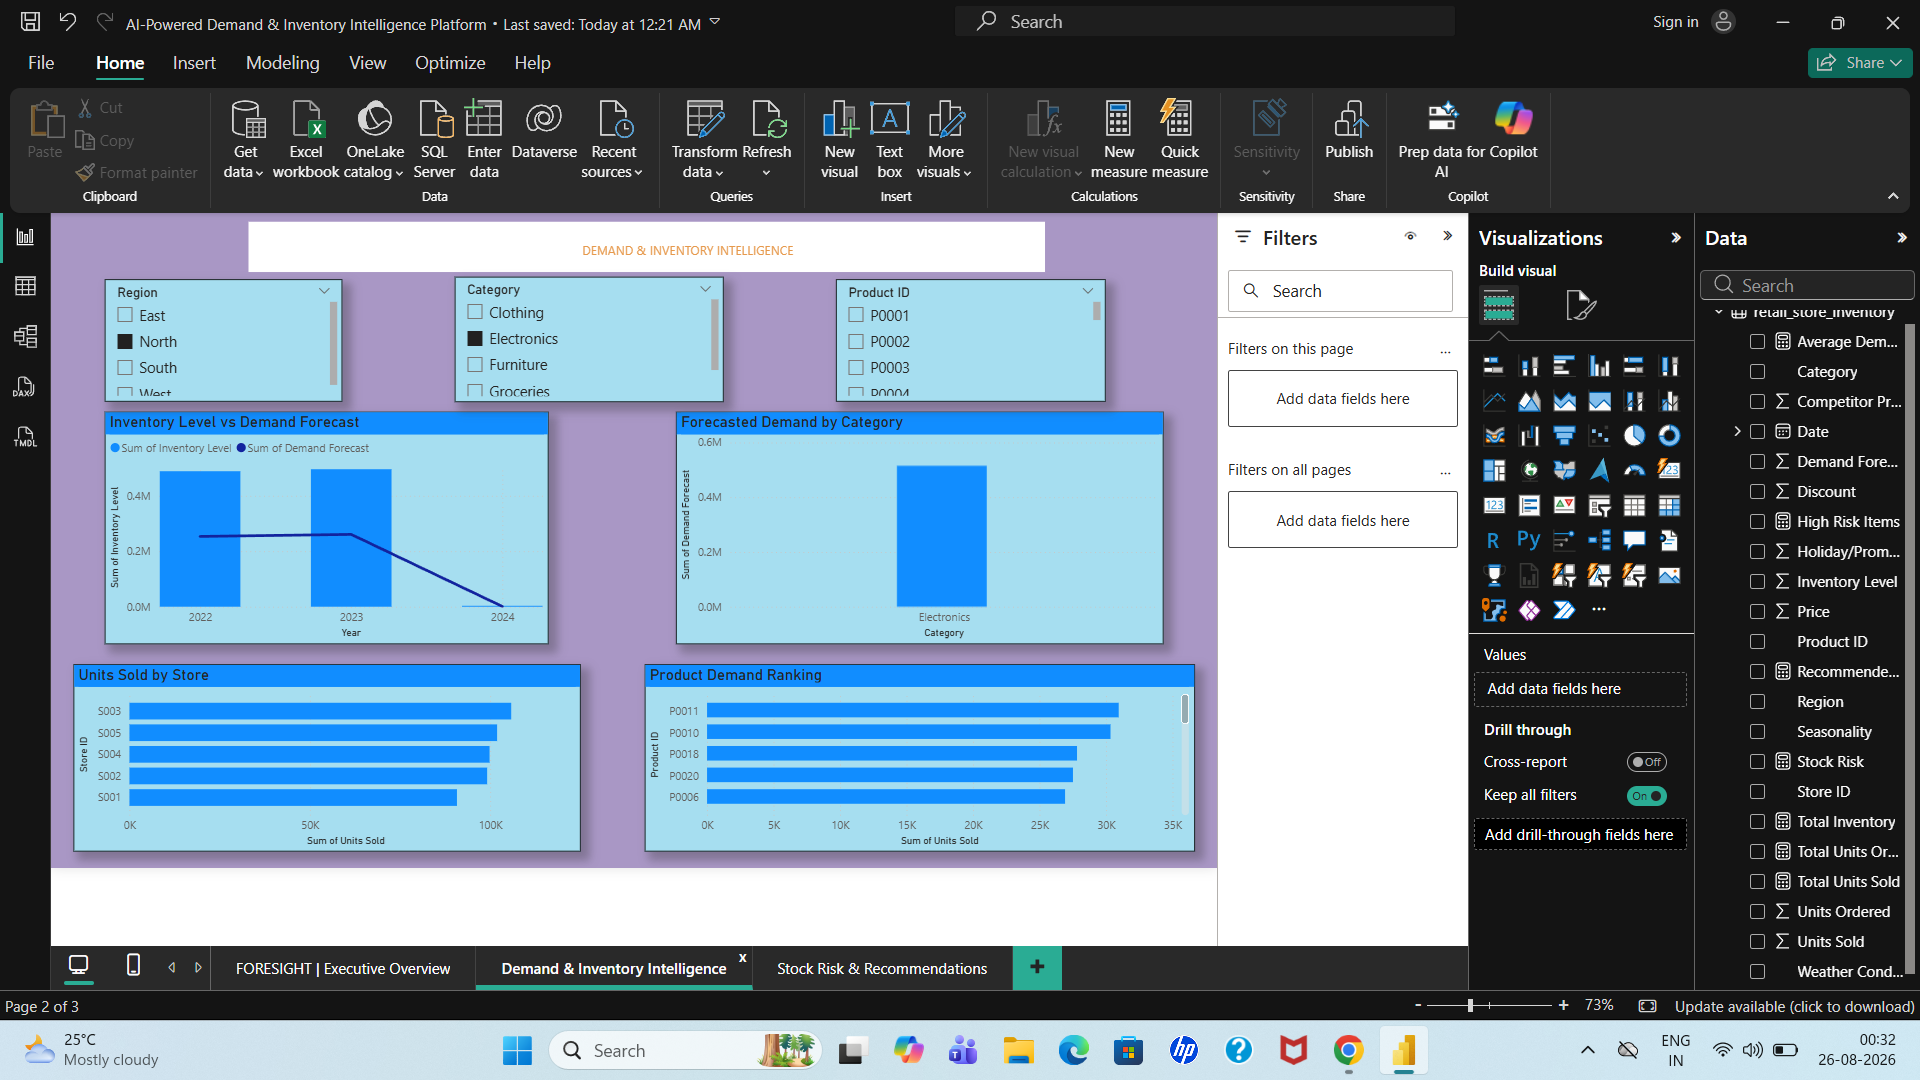

This screenshot's page, from the dashboard's own definition file:
{"tool":"powerbi","page":{"name":"Demand & Inventory Intelligence","canvas":[1280,720],"ordinal":1},"visuals":[{"type":"textbox","box":[216.8,9.6,874.1,54.9],"z":0},{"type":"lineClusteredColumnComboChart","title":"Inventory Level vs Demand Forecast","fields":{"Category":["retail_store_inventory.Date.Variation.Date Hierarchy.Year","retail_store_inventory.Date.Variation.Date Hierarchy.Quarter","retail_store_inventory.Date.Variation.Date Hierarchy.Month","retail_store_inventory.Date.Variation.Date Hierarchy.Day"],"Y":["Sum(retail_store_inventory.Inventory Level)"],"Y2":["Sum(retail_store_inventory.Demand Forecast)"]},"box":[59,218.2,487.1,255.2],"z":1},{"type":"clusteredColumnChart","title":"Forecasted Demand by Category","fields":{"Category":["retail_store_inventory.Category"],"Y":["Sum(retail_store_inventory.Demand Forecast)"]},"box":[686.1,218.2,535.2,255.2],"z":2},{"type":"clusteredBarChart","title":"Units Sold by Store","fields":{"Category":["retail_store_inventory.Store ID"],"Y":["Sum(retail_store_inventory.Units Sold)"]},"box":[24.7,495.4,557.1,205.8],"z":3},{"type":"barChart","title":"Product Demand Ranking","fields":{"Category":["retail_store_inventory.Product ID"],"Y":["Sum(retail_store_inventory.Units Sold)"]},"box":[651.8,495.4,603.8,205.8],"z":4},{"type":"slicer","fields":{"Values":["retail_store_inventory.Region"]},"box":[59,72.7,260.7,134.5],"z":5},{"type":"slicer","fields":{"Values":["retail_store_inventory.Category"]},"box":[443.2,70,295,137.2],"z":6},{"type":"slicer","fields":{"Values":["retail_store_inventory.Product ID"]},"box":[861.8,72.7,296.4,134.5],"z":7}]}

Visuals, with their boxes on the page's 1280x720 design canvas (x1, y1, x2, y2). These are canvas units, not pixel positions in the 1920x1080 screenshot, which may show the page scaled, cropped or inside an application window:
textbox: left=217, top=10, right=1091, bottom=64
"Inventory Level vs Demand Forecast" lineClusteredColumnComboChart: left=59, top=218, right=546, bottom=473
"Forecasted Demand by Category" clusteredColumnChart: left=686, top=218, right=1221, bottom=473
"Units Sold by Store" clusteredBarChart: left=25, top=495, right=582, bottom=701
"Product Demand Ranking" barChart: left=652, top=495, right=1256, bottom=701
slicer - retail_store_inventory.Region: left=59, top=73, right=320, bottom=207
slicer - retail_store_inventory.Category: left=443, top=70, right=738, bottom=207
slicer - retail_store_inventory.Product ID: left=862, top=73, right=1158, bottom=207
